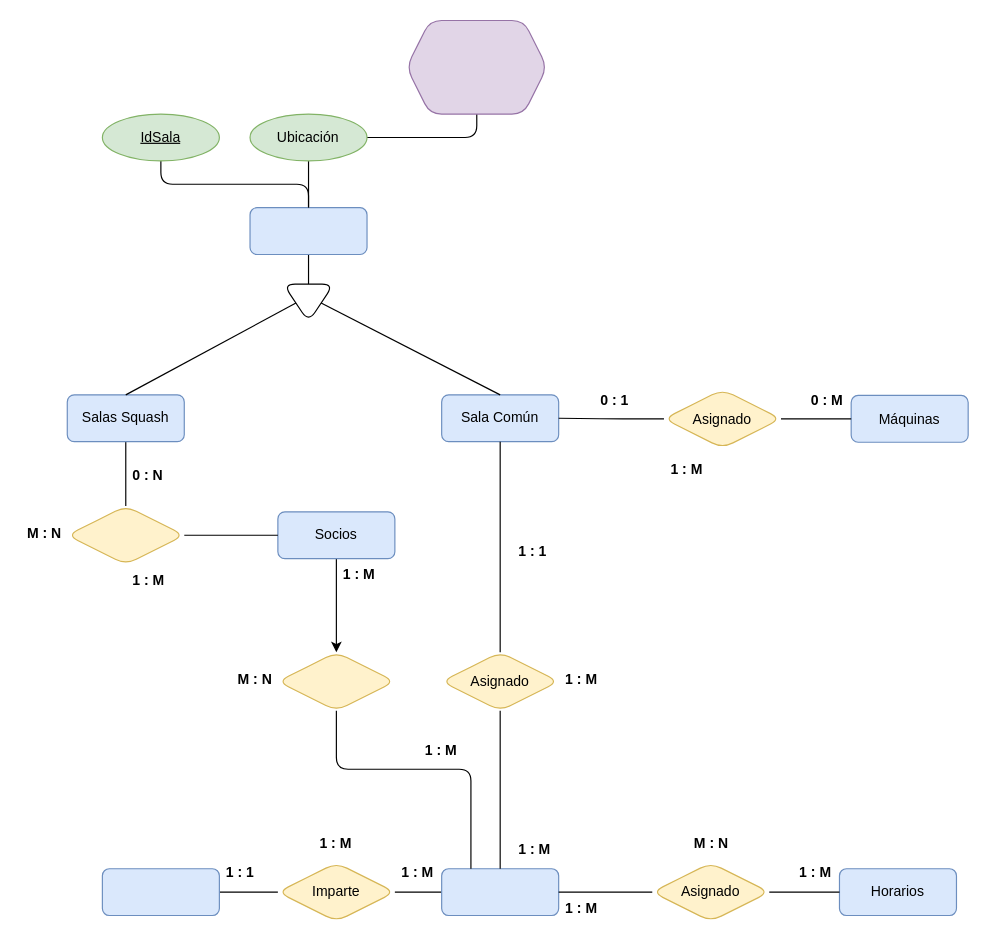
This 989x951 diagram has some shape labels left out. The box of each missing label's shape, as (x1, y1, x2, y2) in pixels:
Clases: (441, 868, 559, 916)
Entrenador: (101, 868, 219, 916)
Registro: (277, 651, 395, 711)
Reservas: (66, 505, 184, 565)
Salas: (249, 207, 367, 254)
Ventana, Esquina, Centro, Etc.: (405, 19, 547, 114)
